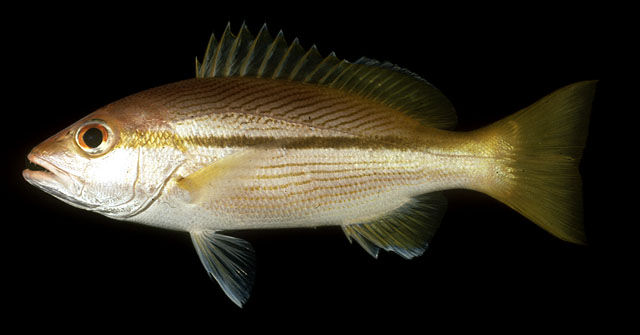fish: (23, 20, 595, 308)
